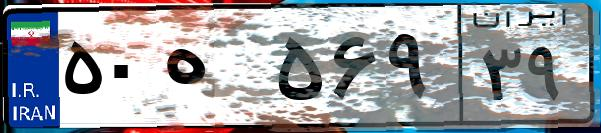0: (110, 28, 158, 98)
3: (475, 38, 525, 113)
5: (270, 28, 330, 110), (57, 26, 110, 100)
6: (330, 28, 385, 110)
9: (385, 28, 445, 110), (525, 38, 570, 115)
ه: (158, 20, 270, 120)
